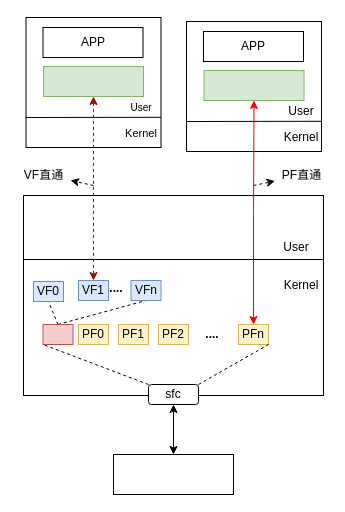
This 345x512 diagram has some shape labels left out. The centre of each missing label's shape, as x and y in pixels:
"Onload TCPDirect/EF_VI" belongs at pixel 253 85.
"Onload/VMA" belongs at pixel 93 81.
"PF" belongs at pixel 57 334.
"低时延交换机" belongs at pixel 173 474.
